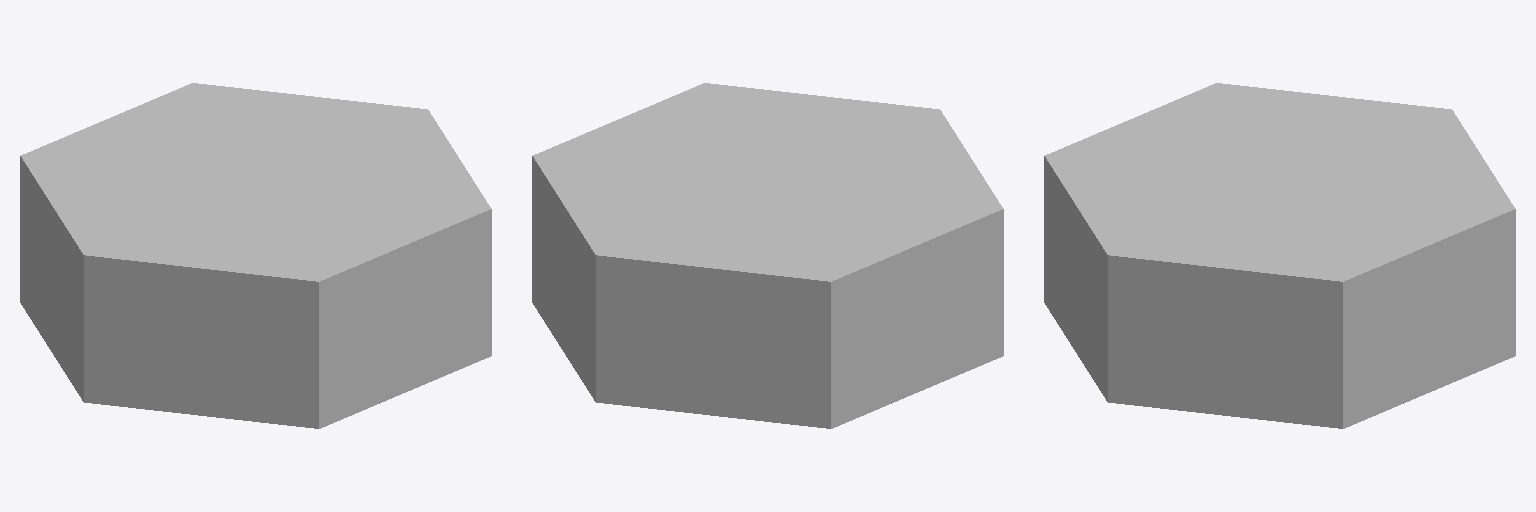
robot.urdf — TC3_Igus:
<?xml version="1.0" encoding="utf-8"?>
<robot name="TC3_Igus">
  <link name="toolchanger_base">
    <visual>
      <geometry>
        <mesh filename="package://TC3_Igus/meshes/visual/L0_visual_0.stl" scale="0.001 0.001 0.001"/>
      </geometry>
      <material name="Material">
        <color rgba="0.8 0.8 0.8 1.0"/>
      </material>
    </visual>
    <visual>
      <geometry>
        <mesh filename="package://TC3_Igus/meshes/visual/L0_visual_1.stl" scale="0.001 0.001 0.001"/>
      </geometry>
      <material name="Material">
        <color rgba="0.8 0.8 0.8 1.0"/>
      </material>
    </visual>
    <visual>
      <geometry>
        <mesh filename="package://TC3_Igus/meshes/visual/L0_visual_2.stl" scale="0.001 0.001 0.001"/>
      </geometry>
      <material name="Material">
        <color rgba="0.8 0.8 0.8 1.0"/>
      </material>
    </visual>
    <collision>
      <geometry>
        <mesh filename="package://TC3_Igus/meshes/collision/L0_collision_0.stl" scale="0.001 0.001 0.001"/>
      </geometry>
    </collision>
    <collision>
      <geometry>
        <mesh filename="package://TC3_Igus/meshes/collision/L0_collision_1.stl" scale="0.001 0.001 0.001"/>
      </geometry>
    </collision>
    <collision>
      <geometry>
        <mesh filename="package://TC3_Igus/meshes/collision/L0_collision_2.stl" scale="0.001 0.001 0.001"/>
      </geometry>
    </collision>
  </link>
</robot>

--- What the picture shows (computed from the rendered views, not written in the file) ---
3 views of the same robot in one strip: view 1: azimuth 30°, elevation 25°; view 2: azimuth 150°, elevation 25°; view 3: azimuth 270°, elevation 25° (orthographic).
Robot: TC3_Igus — 1 links, 0 joints (none); root link toolchanger_base; default pose: every joint at zero.
Visible links, largest first — view 1: toolchanger_base; view 2: toolchanger_base; view 3: toolchanger_base.
Boxes of the visible links, x1,y1,x2,y2 form: toolchanger_base: (20,83,491,428); toolchanger_base: (532,83,1003,428); toolchanger_base: (1044,83,1515,428).
Size in the robot's own frame: 0.0579 by 0.058 by 0.02 metres.
Meshes: 3 distinct files referenced, 1 mesh visuals loaded (1 binary STL); not drawn: 2 (reference not matched to a file when rendering).